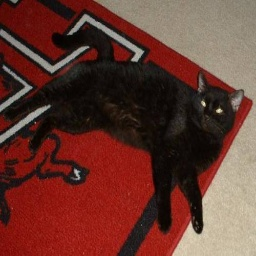cat: (17, 32, 248, 239)
